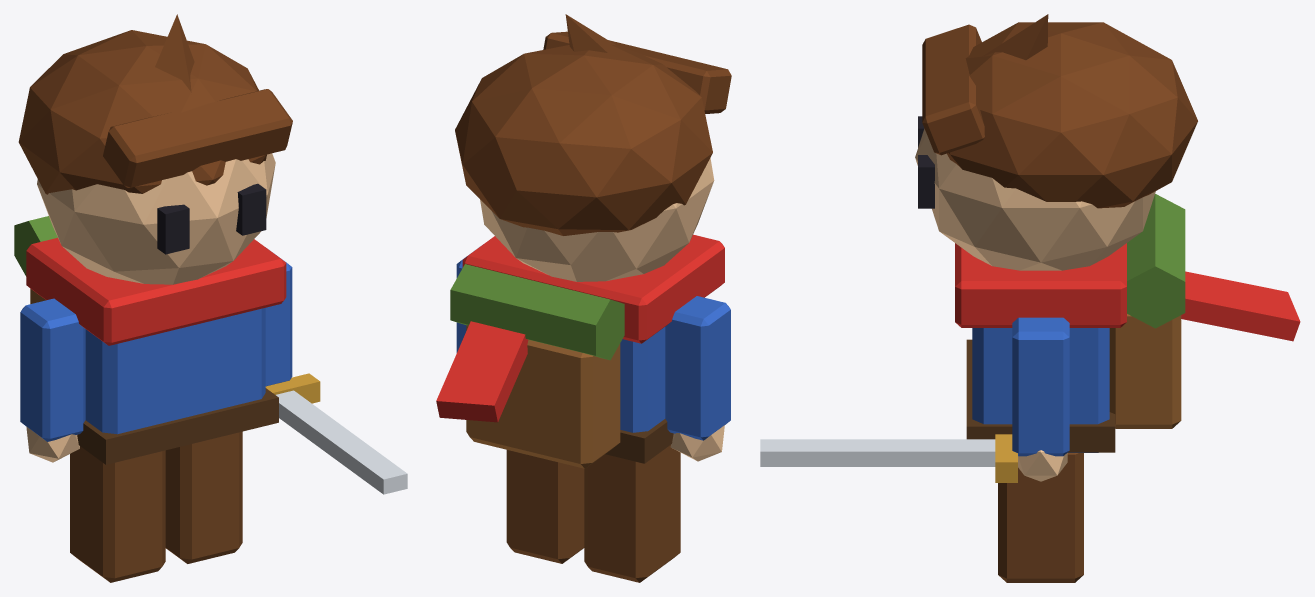
File: hero.glb
3 renders of one model, left to right at view 1: azimuth 30°, elevation 25°; view 2: azimuth 150°, elevation 25°; view 3: azimuth 270°, elevation 25°, orthographic. The views are drawn at different scales.
Parts seen in each view (by area): view 1: Hair, Head, Body, Scarf, Fringe, LegL, LegR, ArmL, Belt, Sword, ArmR, EyeL (+5 smaller); view 2: Hair, Backpack, LegL, Bedroll, Head, Scarf, ArmL, LegR, ScarfTail, Body, Fringe, Belt (+2 smaller); view 3: Hair, Head, Scarf, LegR, ArmR, Body, Backpack, Sword, Fringe, Bedroll, ScarfTail, Belt (+4 smaller).
Boxes of the visible parts, box(x1,y1,x2,y2) form: Hair: box(18, 30, 266, 194); Head: box(37, 153, 275, 284); Body: box(85, 308, 265, 434); Scarf: box(26, 237, 286, 345); Fringe: box(103, 89, 292, 187); LegL: box(70, 446, 165, 582); LegR: box(165, 431, 242, 563); ArmL: box(20, 298, 85, 441); Belt: box(77, 388, 278, 464); Sword: box(276, 390, 407, 494); ArmR: box(265, 253, 292, 386); EyeL: box(157, 204, 189, 254); Hair: box(455, 44, 712, 235); Backpack: box(466, 325, 620, 468); LegL: box(584, 445, 680, 582); Bedroll: box(450, 264, 624, 360); Head: box(480, 158, 714, 281); Scarf: box(462, 234, 724, 343); ArmL: box(665, 296, 730, 440); LegR: box(506, 450, 584, 563); ScarfTail: box(436, 321, 528, 422); Body: box(620, 327, 665, 432); Fringe: box(543, 31, 731, 113); Belt: box(605, 419, 673, 463); Hair: box(947, 22, 1197, 208); Head: box(915, 128, 1155, 270); Scarf: box(955, 243, 1126, 327); LegR: box(998, 453, 1083, 582); ArmR: box(1012, 317, 1069, 456); Body: box(972, 328, 1109, 452); Backpack: box(1109, 314, 1181, 428); Sword: box(760, 439, 995, 466); Fringe: box(922, 24, 984, 155); Bedroll: box(1127, 194, 1185, 328); ScarfTail: box(1181, 271, 1300, 341); Belt: box(966, 339, 1115, 452).
Bounding box in the file's own units: 0.5592 × 1.06 × 0.9433.
